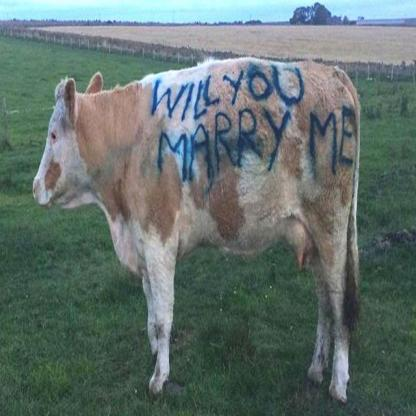cow: (33, 60, 359, 400)
